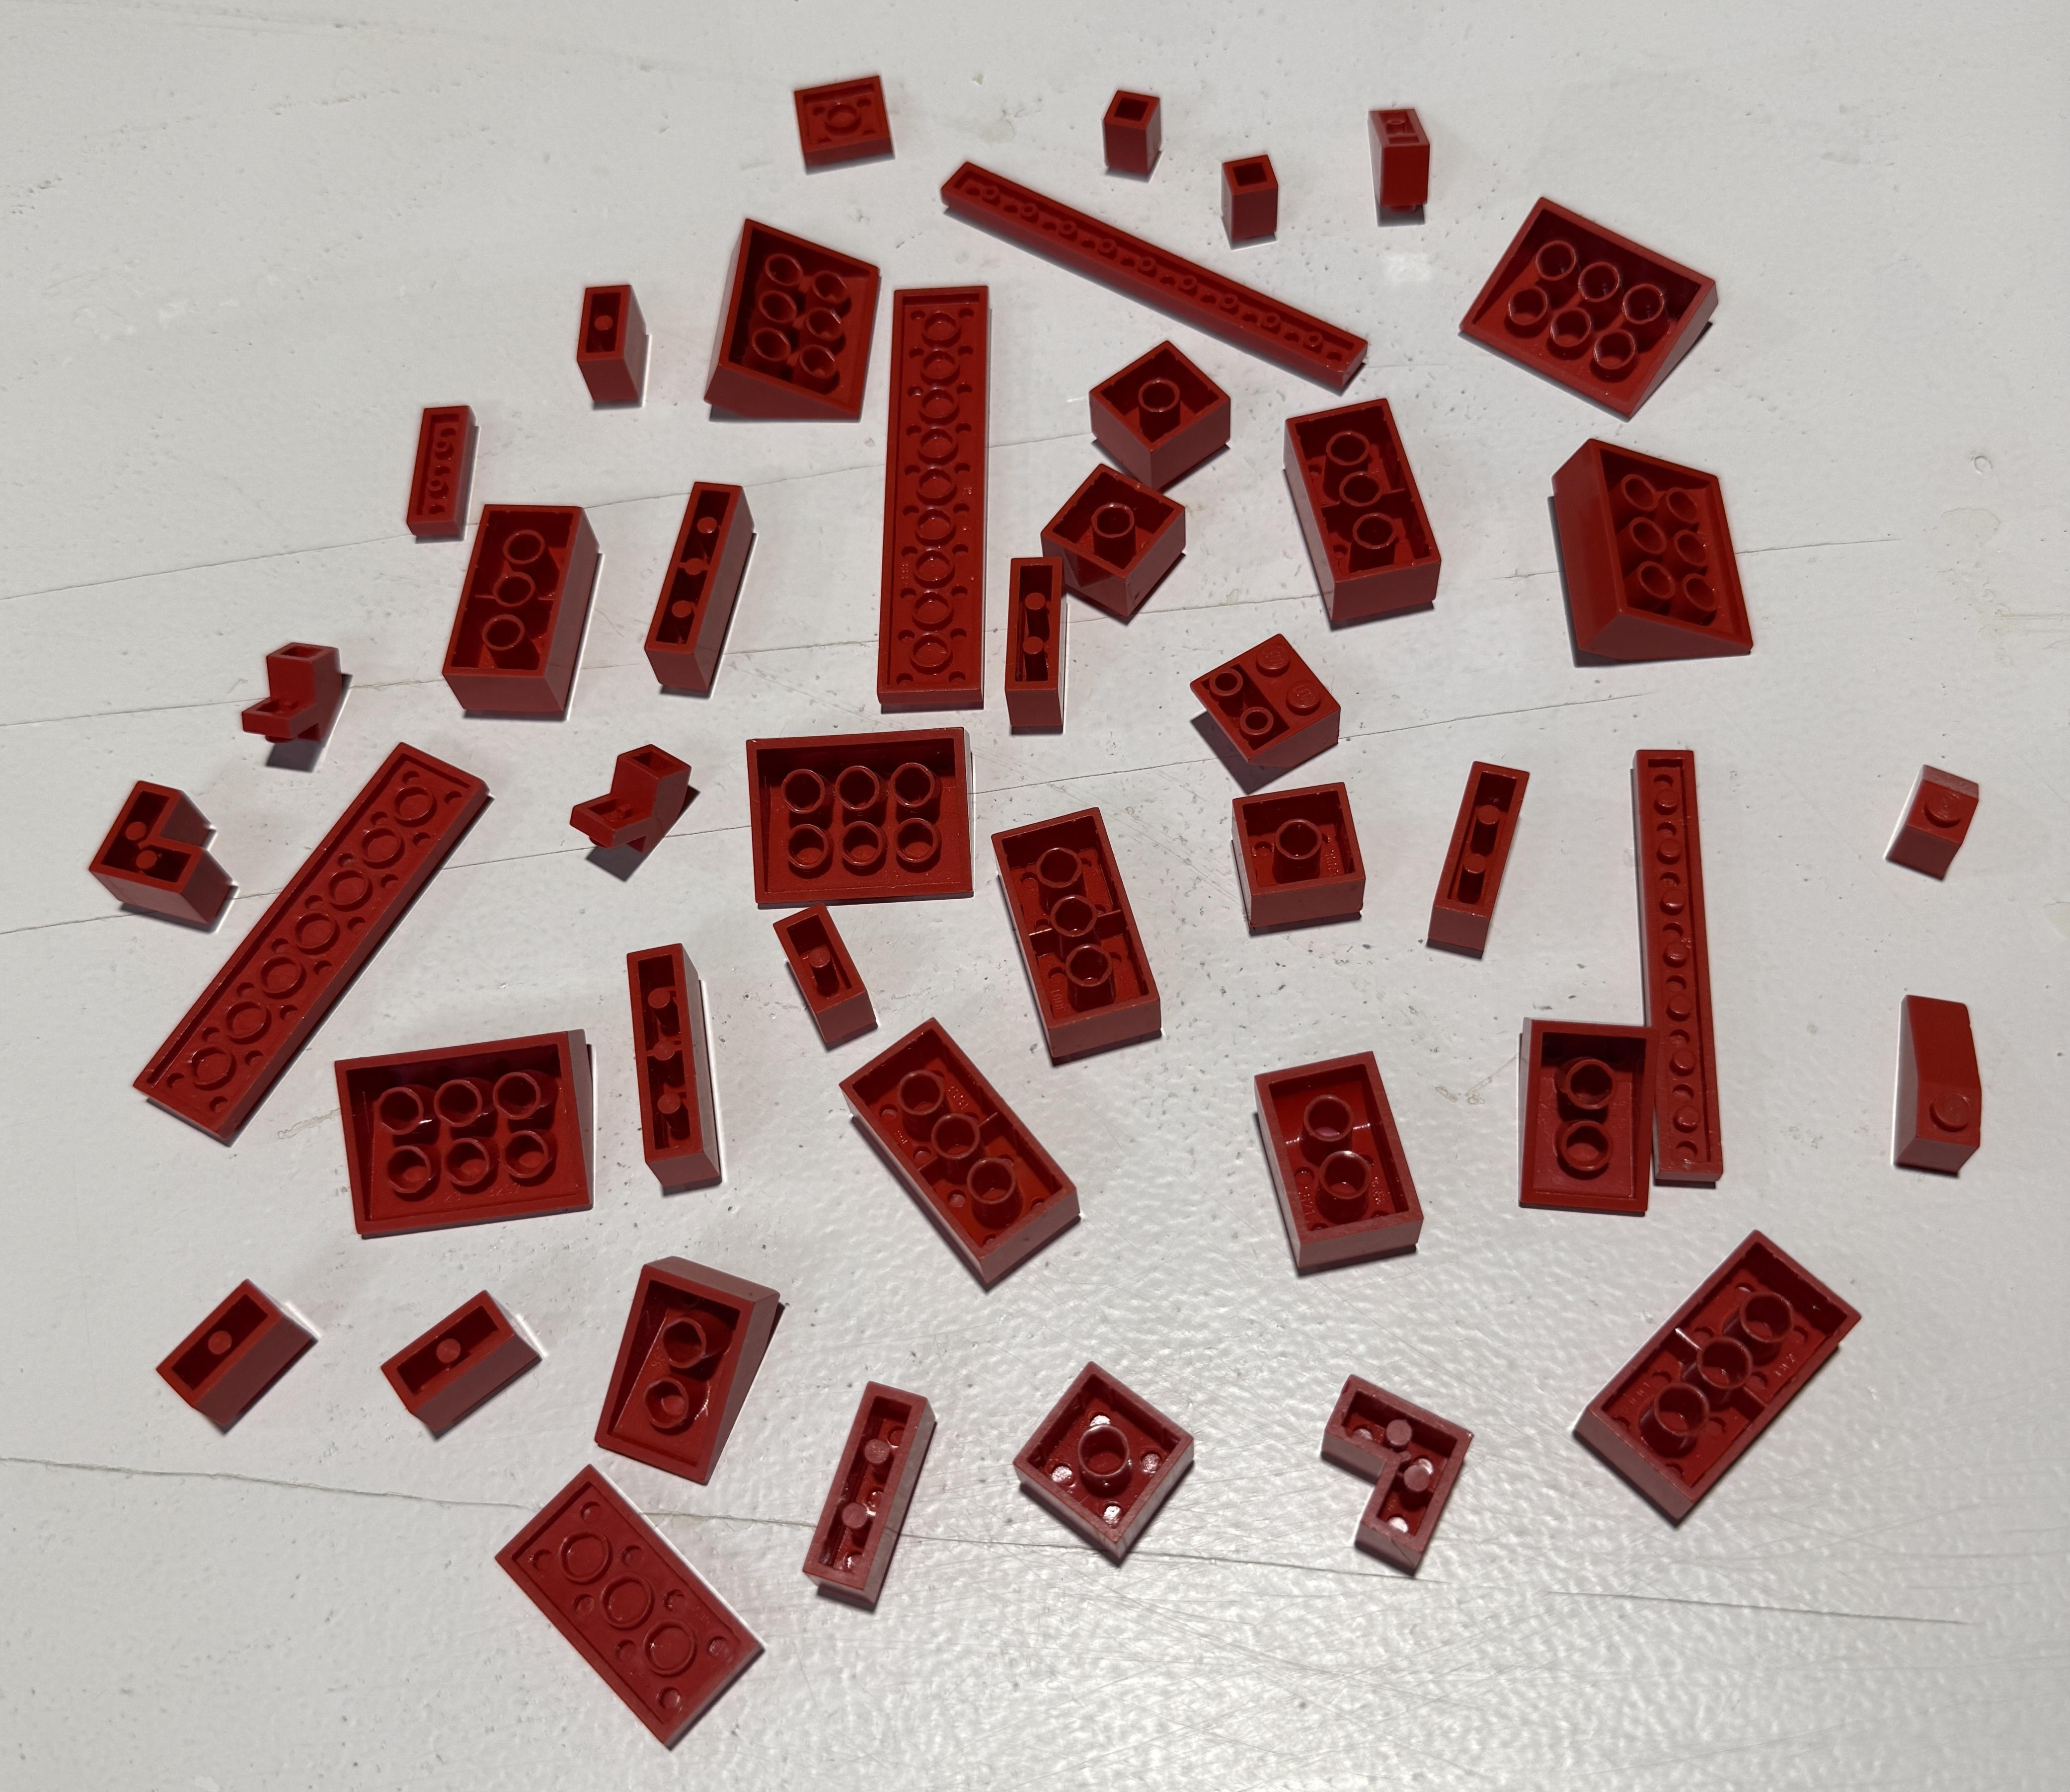Special_02: (562, 1229, 792, 1500)
brick_1x1: (1086, 70, 1181, 194), (1204, 136, 1299, 253)
brick_1x2: (125, 1245, 329, 1465), (340, 1266, 565, 1456), (753, 887, 908, 1070), (563, 253, 660, 412)
brick_1x3: (785, 1359, 954, 1618), (1410, 711, 1565, 984), (979, 540, 1102, 750)
brick_1x4: (604, 915, 743, 1215), (630, 452, 778, 709)
brick_2x2: (1215, 759, 1385, 952), (1019, 452, 1202, 618), (1074, 329, 1244, 496)
brick_2x4: (1554, 1213, 1876, 1549), (822, 995, 1107, 1294), (986, 789, 1181, 1093), (1271, 380, 1461, 644), (429, 477, 616, 738)
plate_2x2: (984, 1341, 1222, 1595), (780, 58, 915, 178)
